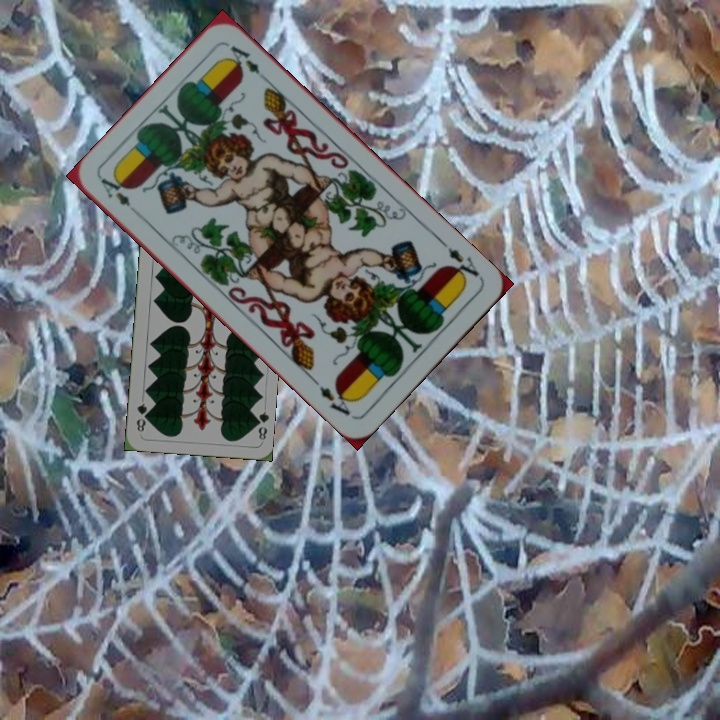EA: (436, 236, 482, 285), (96, 173, 133, 209)
G8: (250, 407, 271, 442)
